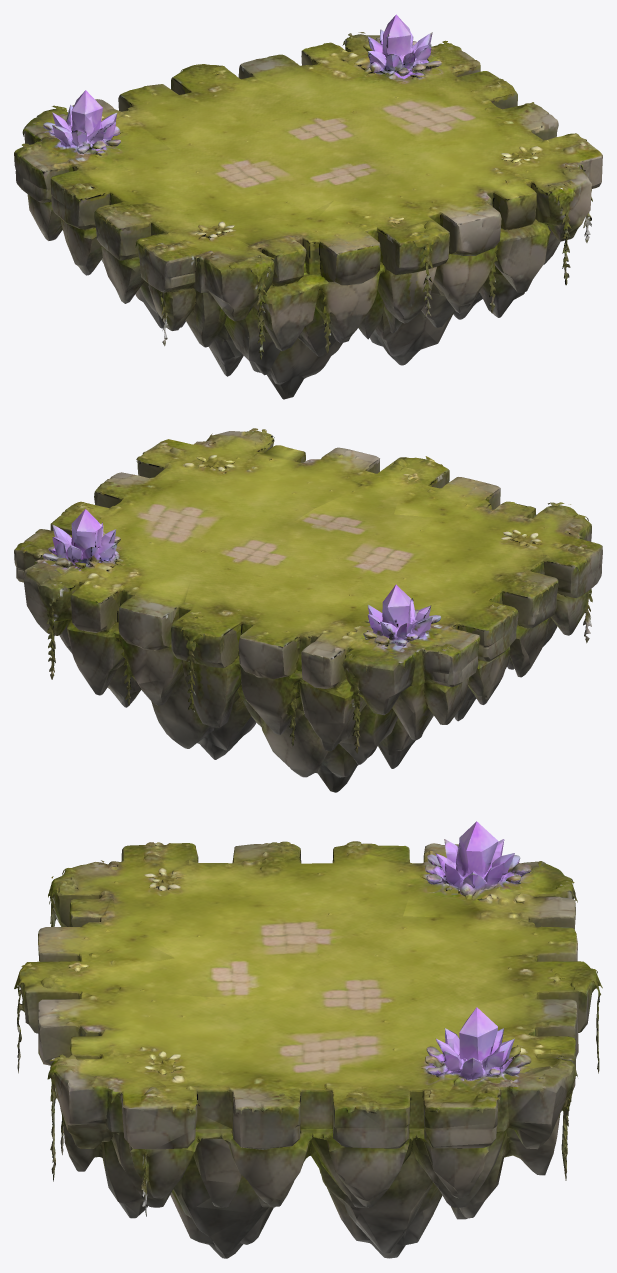
The picture shows the model from 3 angles, top to bottom: view 1: azimuth 30°, elevation 25°; view 2: azimuth 150°, elevation 25°; view 3: azimuth 270°, elevation 25°; orthographic projection. The views are drawn at different scales.
Parts seen in each view (by area): view 1: model; view 2: model; view 3: model.
Part boxes in pixels (x1,y1,x2,y2): model: [14, 14, 602, 399]; model: [14, 428, 602, 792]; model: [14, 821, 602, 1258].
Size of the model in its own units: 1.9 by 1.05 by 1.78.
1 material, 1 textured.
